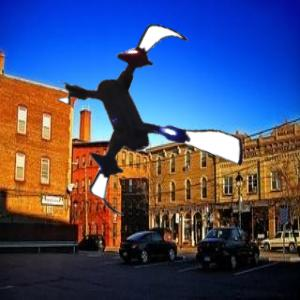drone: (49, 20, 253, 224)
